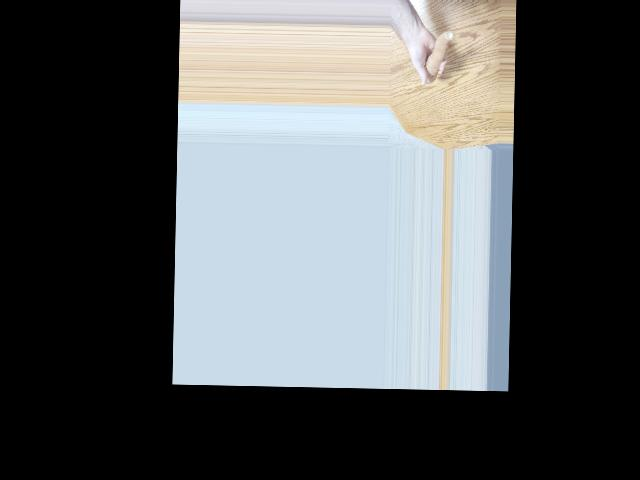sweet_potato: (422, 28, 452, 83)
